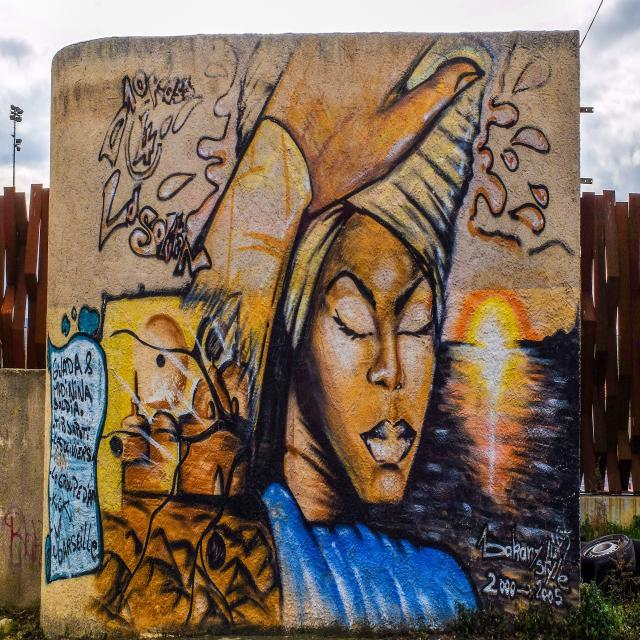-: (49, 58, 576, 623), (96, 71, 246, 272), (465, 39, 582, 258)
